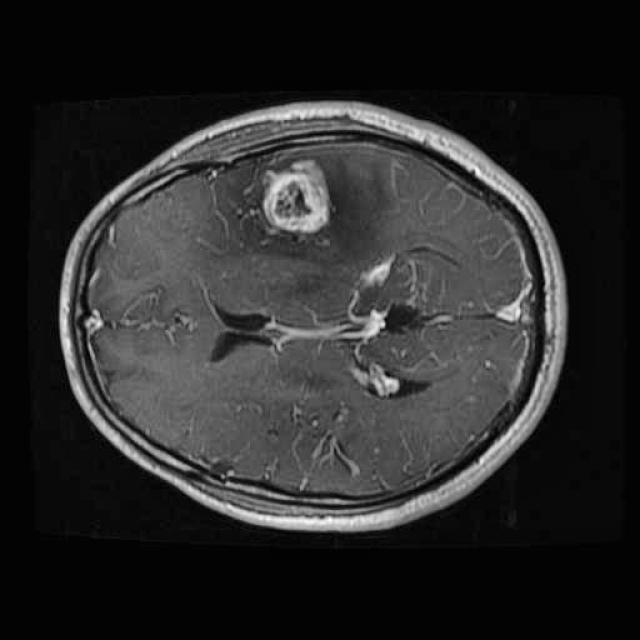Non-Tumor: (249, 139, 342, 240)
